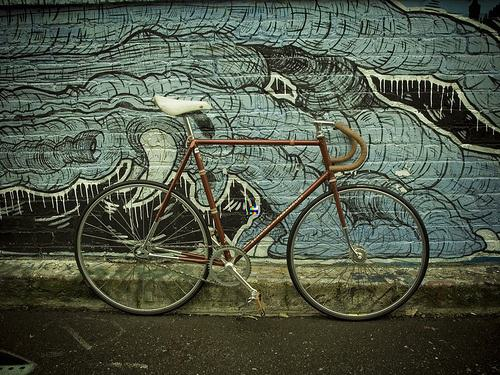car: (76, 95, 432, 325)
